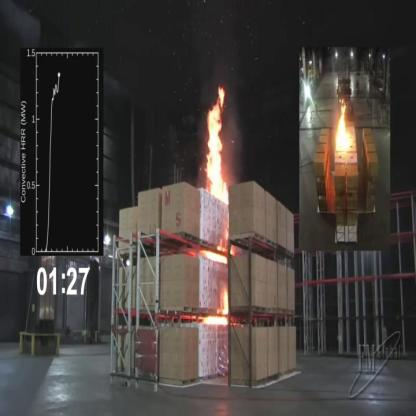fire: (206, 82, 230, 207), (222, 286, 230, 319), (231, 246, 235, 256)
